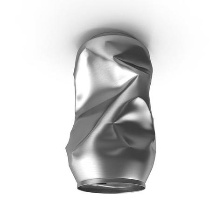can: (60, 26, 159, 196)
